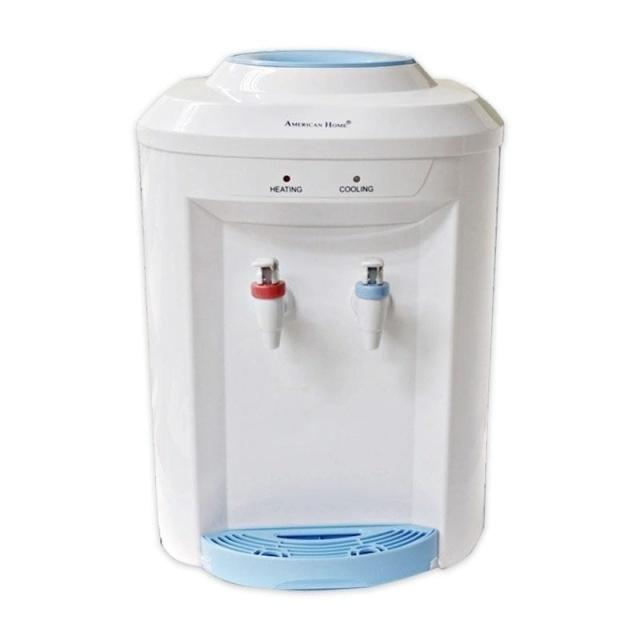Dispenser: (134, 48, 504, 590)
